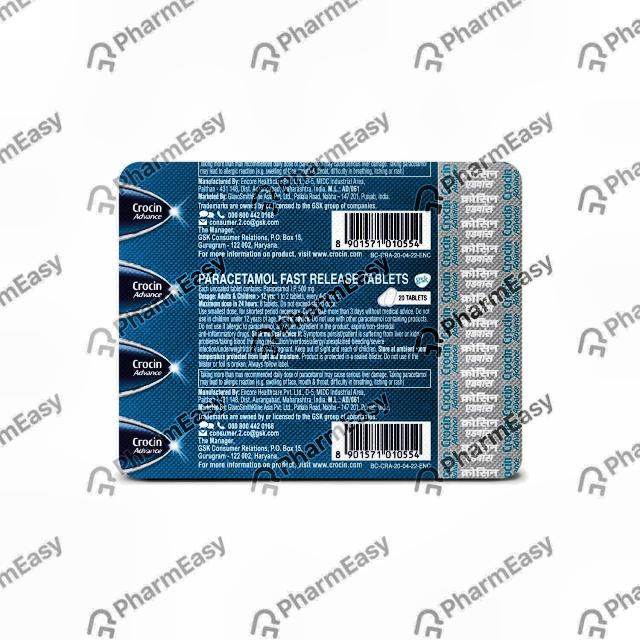Crocin: (119, 162, 203, 481)
